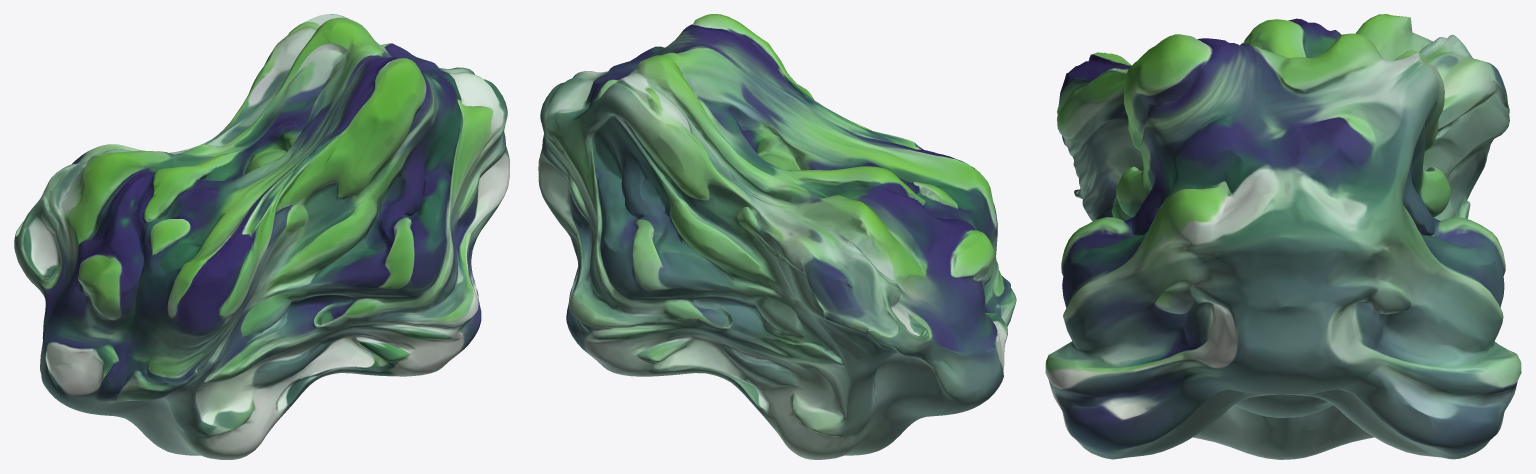
The model's file is Celics.glb.
3 views of the same model, side by side, from view 1: azimuth 30°, elevation 25°; view 2: azimuth 150°, elevation 25°; view 3: azimuth 270°, elevation 25° (orthographic). The views are drawn at different scales.
Visible parts, largest first — view 1: tripo_node_7d65a8b3-0948-4cb8-b2d5-3e1fd91d0ecc; view 2: tripo_node_7d65a8b3-0948-4cb8-b2d5-3e1fd91d0ecc; view 3: tripo_node_7d65a8b3-0948-4cb8-b2d5-3e1fd91d0ecc.
Part boxes in pixels (box(x1,y1,x2,y2)): tripo_node_7d65a8b3-0948-4cb8-b2d5-3e1fd91d0ecc: box(14, 14, 509, 459); tripo_node_7d65a8b3-0948-4cb8-b2d5-3e1fd91d0ecc: box(538, 14, 1016, 459); tripo_node_7d65a8b3-0948-4cb8-b2d5-3e1fd91d0ecc: box(1045, 14, 1521, 459).
Bounding box in the file's own units: 0.9786 × 0.769 × 0.6203.
1 material, 1 textured.
